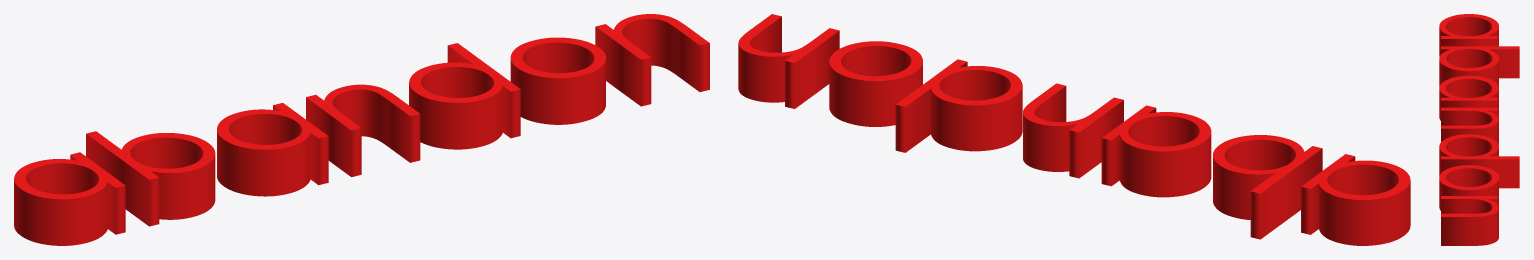
The model's file is abandon_red.fbx.
3 views of the same model, side by side, from view 1: azimuth 30°, elevation 25°; view 2: azimuth 150°, elevation 25°; view 3: azimuth 270°, elevation 25° (orthographic). The views are drawn at different scales.
Visible parts, largest first — view 1: 文本; view 2: 文本; view 3: 文本.
Boxes of the visible parts, left/top/right/bottom form: 文本: left=14, top=14, right=709, bottom=245; 文本: left=738, top=14, right=1410, bottom=245; 文本: left=1439, top=14, right=1519, bottom=245.
Bounding box in the file's own units: 328 × 22 × 54.9.
